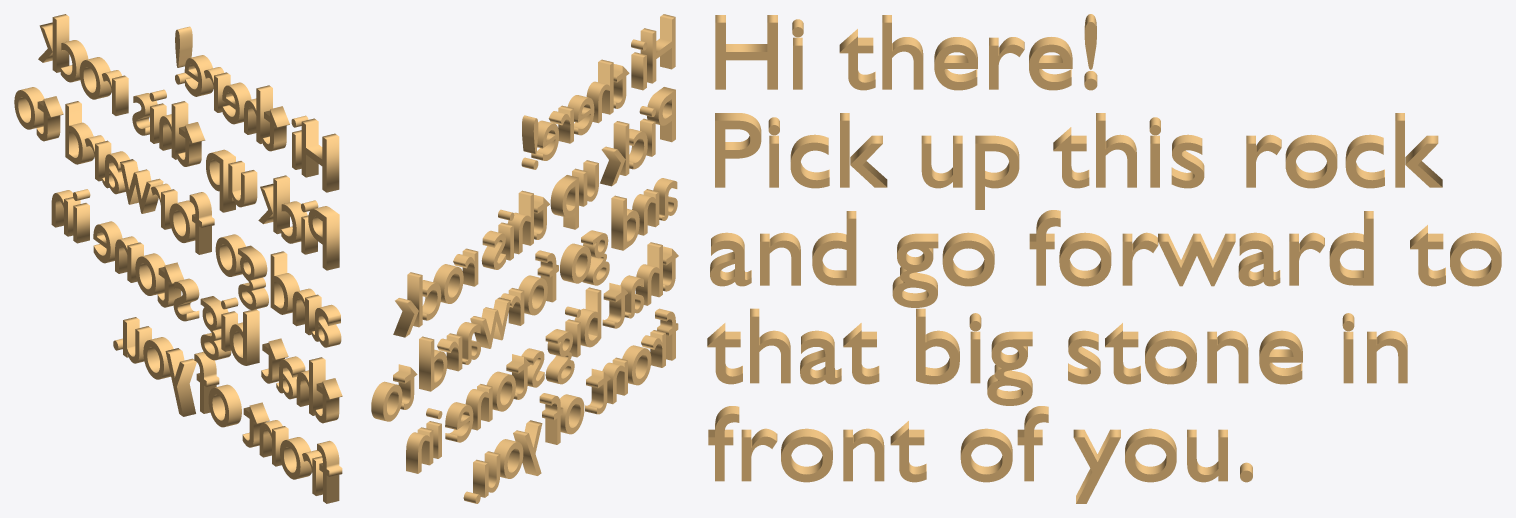
Rendered from first.fbx.
3 renders of one model, left to right at view 1: azimuth 30°, elevation 25°; view 2: azimuth 150°, elevation 25°; view 3: azimuth 270°, elevation 25°, orthographic. The views are drawn at different scales.
Parts seen in each view (by area): view 1: Text; view 2: Text; view 3: Text.
Boxes of the visible parts, x1,y1,x2,y2 form: Text: (14,14,342,503); Text: (371,14,678,503); Text: (707,14,1501,503).
Bounding box in the file's own units: 17.2 × 492 × 735.
